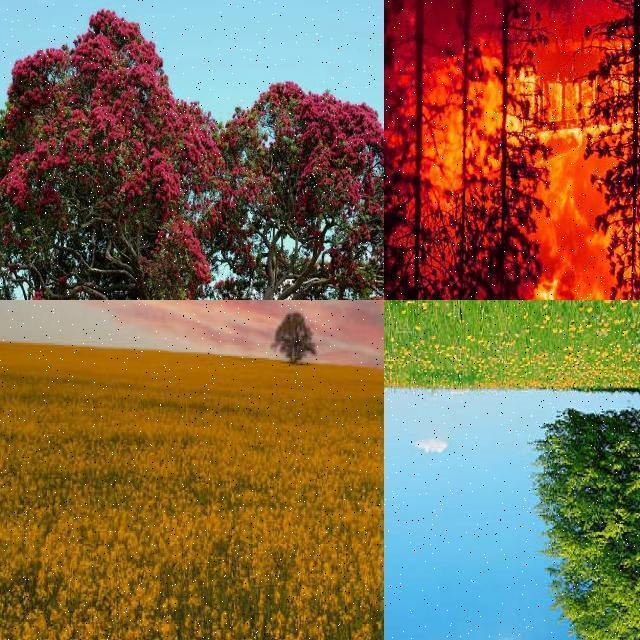tree: (0, 8, 384, 300), (528, 392, 640, 640), (471, 0, 557, 300), (424, 0, 488, 300), (384, 0, 448, 300), (591, 0, 640, 300), (275, 302, 321, 366)
